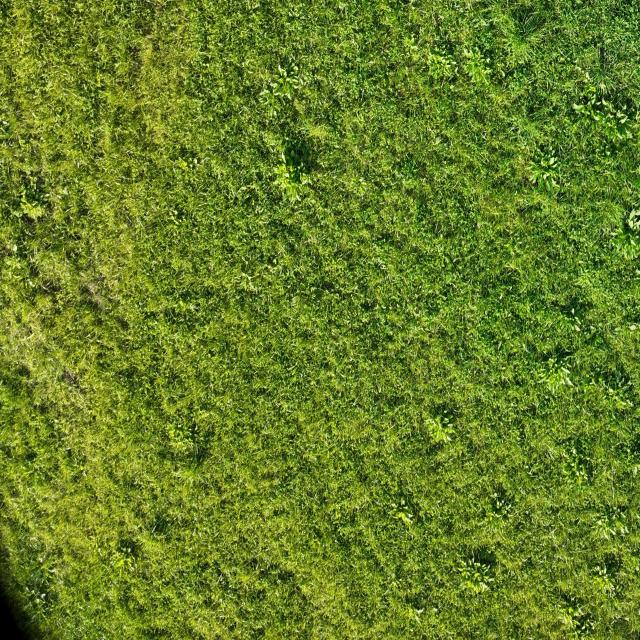rumex: (211, 314, 330, 481), (139, 524, 279, 636), (113, 405, 220, 546), (358, 232, 448, 362), (313, 246, 377, 323), (154, 168, 212, 246), (22, 561, 61, 617), (497, 29, 542, 77), (609, 199, 640, 259), (15, 174, 51, 225), (235, 256, 273, 299), (162, 413, 200, 456), (596, 376, 637, 415), (556, 599, 592, 637), (560, 448, 590, 490), (588, 564, 620, 601), (171, 153, 203, 189), (481, 496, 513, 528), (465, 52, 492, 86), (578, 82, 604, 116), (304, 120, 334, 149), (271, 68, 297, 100), (556, 309, 583, 339), (427, 47, 451, 80), (48, 198, 74, 228), (389, 502, 417, 528), (166, 201, 187, 229), (520, 14, 542, 39), (150, 515, 173, 538), (591, 516, 614, 538), (404, 40, 424, 65), (407, 604, 428, 626), (26, 585, 47, 607), (558, 607, 576, 629), (612, 514, 630, 534), (626, 207, 640, 231), (535, 167, 557, 182), (286, 182, 299, 204), (558, 364, 573, 383), (166, 425, 182, 442), (40, 278, 56, 294), (259, 87, 273, 105), (614, 110, 628, 126), (593, 565, 608, 579), (438, 429, 452, 444), (544, 175, 555, 193), (23, 330, 37, 344), (236, 185, 251, 198), (176, 157, 189, 172), (596, 80, 608, 96), (176, 299, 188, 314), (122, 556, 134, 570), (266, 106, 278, 120), (478, 581, 490, 594), (376, 259, 388, 271), (470, 558, 482, 570), (28, 176, 38, 190), (44, 80, 54, 94), (572, 103, 586, 113), (632, 205, 640, 222), (269, 79, 280, 91), (29, 536, 40, 548), (463, 47, 474, 59), (509, 122, 520, 134), (358, 177, 368, 190), (299, 173, 309, 186), (558, 48, 568, 61), (94, 72, 102, 88), (587, 378, 599, 388), (624, 128, 634, 140), (413, 606, 425, 616), (633, 462, 640, 478), (537, 367, 547, 378), (274, 176, 283, 188), (541, 155, 550, 167), (484, 514, 494, 524), (547, 357, 556, 368), (280, 152, 288, 164), (610, 229, 622, 237), (607, 386, 617, 395), (472, 571, 480, 582), (277, 64, 285, 75), (338, 371, 346, 382), (584, 70, 591, 82), (495, 499, 504, 508), (548, 156, 557, 165), (604, 36, 612, 46), (270, 259, 278, 268), (114, 62, 122, 71), (441, 417, 450, 425), (1, 119, 10, 127), (477, 220, 483, 232), (292, 64, 299, 74), (431, 606, 438, 616), (499, 69, 506, 79), (567, 606, 574, 616), (613, 327, 623, 334), (481, 130, 488, 140), (570, 447, 578, 455), (604, 148, 612, 156), (170, 208, 177, 217), (74, 160, 81, 169), (28, 279, 35, 288), (12, 243, 18, 253), (377, 384, 382, 396), (558, 57, 566, 64), (119, 565, 123, 579), (62, 187, 68, 196), (38, 555, 44, 564), (210, 382, 216, 391), (634, 323, 640, 332), (79, 465, 85, 473), (193, 158, 199, 166), (31, 112, 37, 120), (64, 446, 72, 452), (290, 150, 296, 158), (24, 586, 30, 594), (21, 36, 25, 46), (185, 313, 189, 322), (571, 307, 575, 315)
